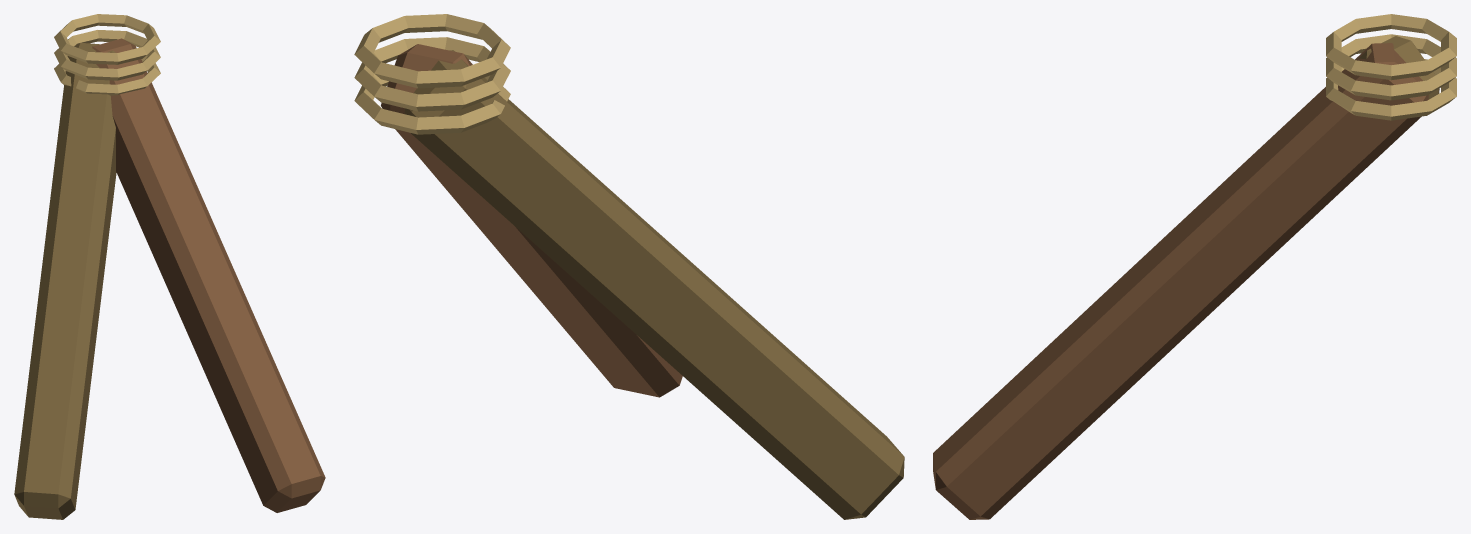
The model's file is rootfall-brace-left.glb.
3 views of the same model, side by side, from view 1: azimuth 30°, elevation 25°; view 2: azimuth 150°, elevation 25°; view 3: azimuth 270°, elevation 25° (orthographic). The views are drawn at different scales.
Parts seen in each view (by area): view 1: rootfall-brace-left; view 2: rootfall-brace-left; view 3: rootfall-brace-left.
Boxes of the visible parts, x1,y1,x2,y2 form: rootfall-brace-left: [14, 14, 325, 519]; rootfall-brace-left: [354, 14, 904, 519]; rootfall-brace-left: [933, 14, 1456, 519].
Size of the model in its own units: 1.17 by 1.59 by 1.64.
Materials: 1 (1 with a texture image).
